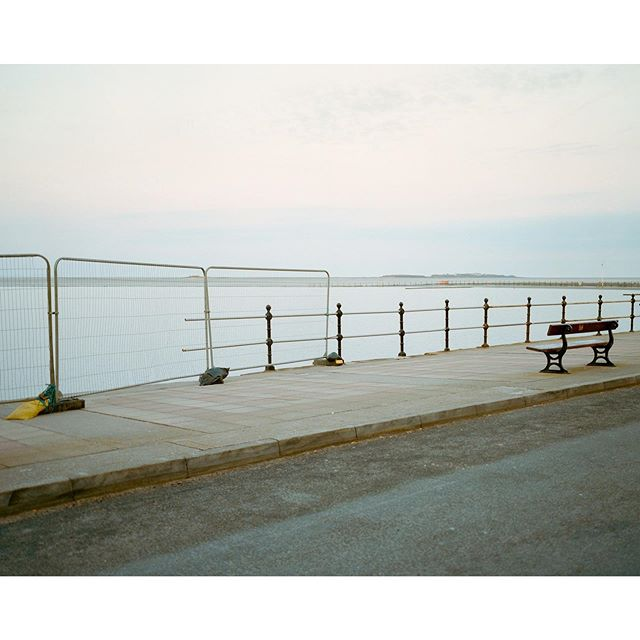bench: (524, 307, 622, 380)
sea: (1, 277, 638, 388)
sidewalk: (36, 322, 640, 518)
sky: (1, 27, 635, 273)
street: (37, 413, 640, 571)
